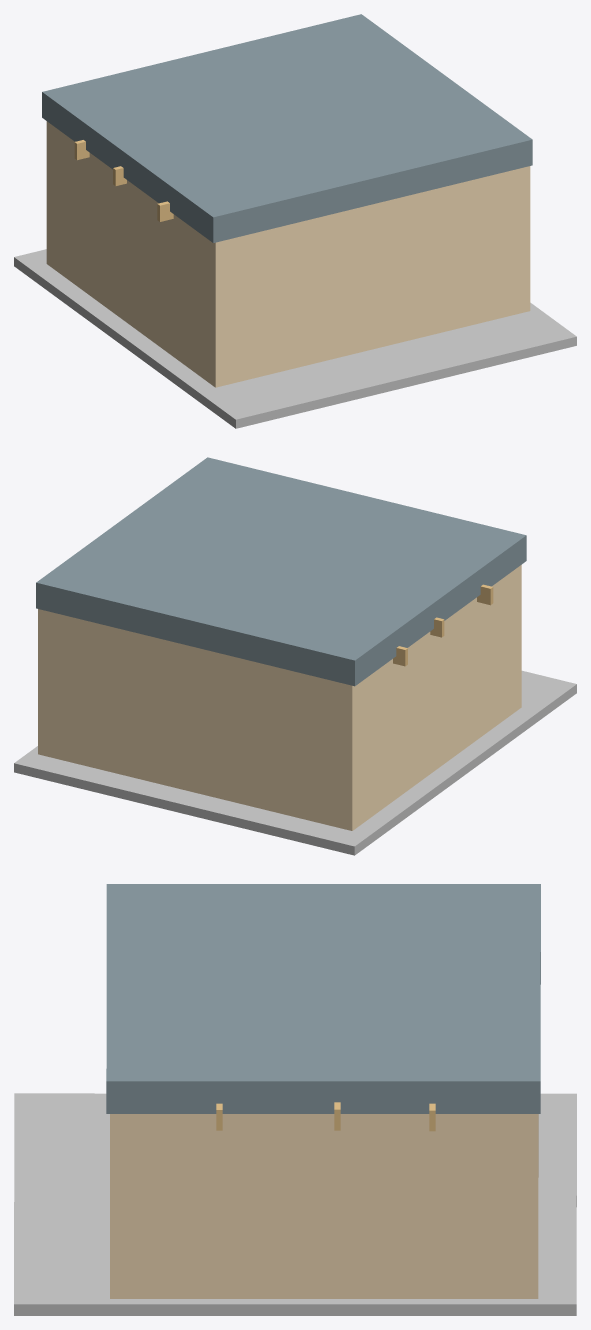
The model's file is garage.gltf.
The picture shows the model from 3 angles, top to bottom: view 1: azimuth 30°, elevation 25°; view 2: azimuth 150°, elevation 25°; view 3: azimuth 270°, elevation 25°; orthographic projection. The views are drawn at different scales.
Parts seen in each view (by area): view 1: mesh1783106917, mesh236407651, mesh36205756, mesh308615427, mesh796220709, mesh1943253578; view 2: mesh1783106917, mesh796220709, mesh36205756, mesh308615427, mesh236407651, mesh1943253578; view 3: mesh1783106917, mesh796220709, mesh308615427, mesh236407651, mesh1943253578.
Part boxes in pixels (left/top/right/bottom): mesh1783106917: left=42, top=14, right=532, bottom=242; mesh236407651: left=210, top=166, right=530, bottom=387; mesh36205756: left=51, top=125, right=210, bottom=383; mesh308615427: left=14, top=249, right=576, bottom=428; mesh796220709: left=46, top=121, right=51, bottom=267; mesh1943253578: left=74, top=140, right=173, bottom=221; mesh1783106917: left=36, top=457, right=526, bottom=686; mesh796220709: left=38, top=609, right=357, bottom=830; mesh36205756: left=357, top=568, right=516, bottom=827; mesh308615427: left=14, top=670, right=576, bottom=855; mesh236407651: left=516, top=565, right=521, bottom=710; mesh1943253578: left=393, top=584, right=493, bottom=666; mesh1783106917: left=106, top=884, right=540, bottom=1113; mesh796220709: left=122, top=1114, right=538, bottom=1298; mesh308615427: left=14, top=1093, right=576, bottom=1315; mesh236407651: left=110, top=1114, right=122, bottom=1298; mesh1943253578: left=216, top=1102, right=435, bottom=1131.
Bounding box in the file's own units: 6.78 × 3.4 × 7.55.
